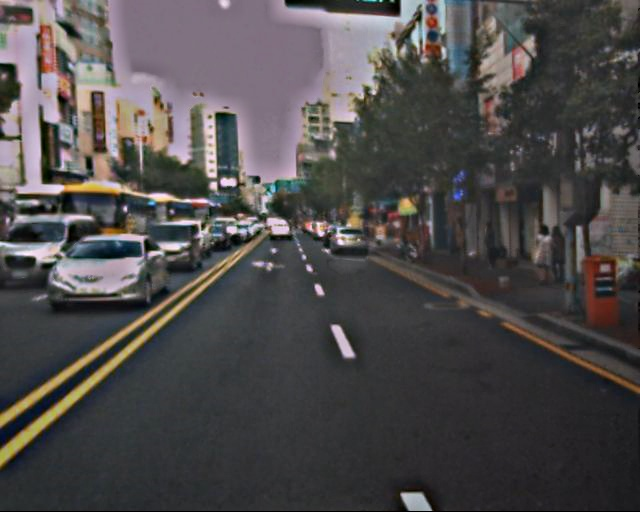person: (530, 225, 556, 288), (544, 223, 569, 284), (482, 221, 501, 268), (453, 219, 471, 263)
